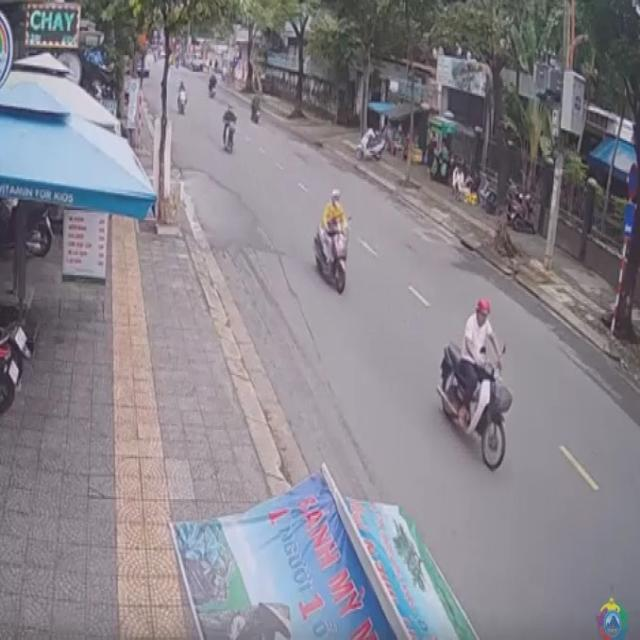motorbike: (434, 293, 516, 477), (312, 184, 349, 298), (220, 103, 241, 155)
